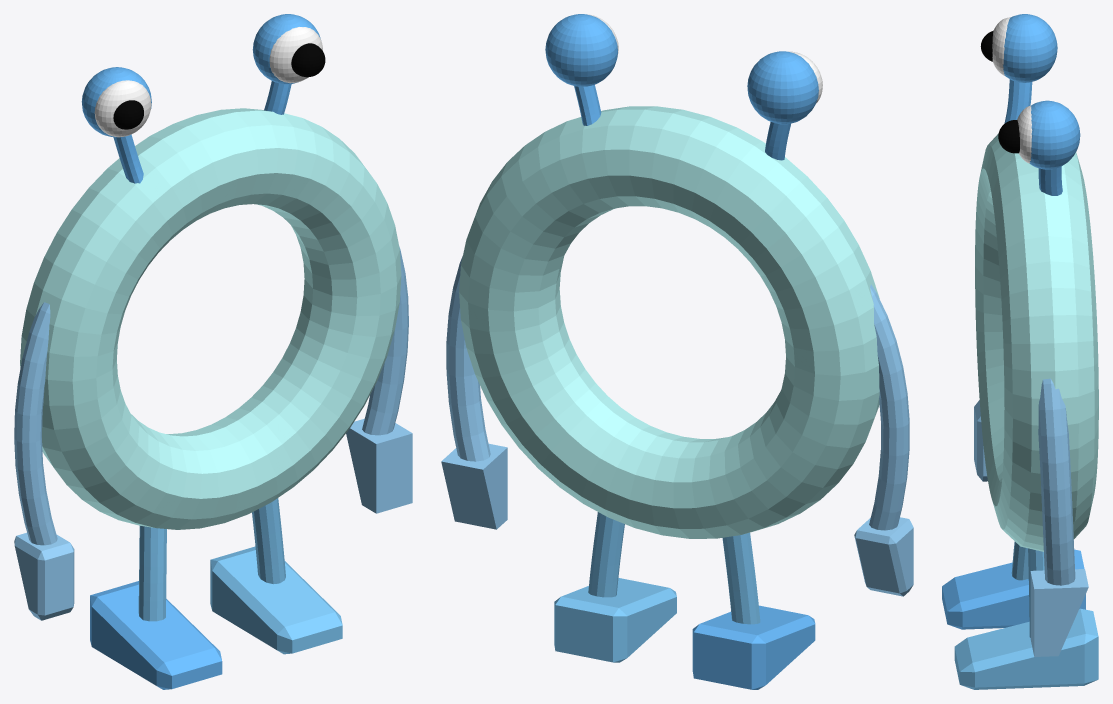
3 views of the same model, side by side, from view 1: azimuth 30°, elevation 25°; view 2: azimuth 150°, elevation 25°; view 3: azimuth 270°, elevation 25° (orthographic). The views are drawn at different scales.
Parts seen in each view (by area): view 1: Body, Shoes, Shoes.001, Hand, Brush, Brush.001, Hand.001, Leg.001, Leg, Eye Inside, Sheath Eye.001, Eye Inside.001 (+5 smaller); view 2: Body, Shoes.001, Shoes, Hand, Hand.001, Brush, Sheath Eye.001, Sheath Eye, Brush.001, Leg.001, Leg, Eye (+1 smaller); view 3: Body, Shoes, Hand.001, Shoes.001, Brush, Sheath Eye, Sheath Eye.001, Eye.001, Brush.001, Eye Inside.001, Eye Inside, Eye (+4 smaller).
Part boxes in pixels (bbox=[...]): Body: bbox=[20, 108, 401, 529]; Shoes: bbox=[210, 546, 342, 654]; Shoes.001: bbox=[90, 581, 222, 689]; Hand: bbox=[14, 302, 57, 545]; Brush: bbox=[346, 418, 412, 513]; Brush.001: bbox=[14, 532, 74, 620]; Hand.001: bbox=[362, 247, 408, 435]; Leg.001: bbox=[138, 526, 166, 621]; Leg: bbox=[252, 498, 285, 584]; Eye Inside: bbox=[94, 80, 151, 137]; Sheath Eye.001: bbox=[252, 14, 320, 84]; Eye Inside.001: bbox=[269, 27, 322, 83]; Body: bbox=[459, 106, 879, 538]; Shoes.001: bbox=[692, 605, 815, 689]; Shoes: bbox=[554, 578, 676, 662]; Hand: bbox=[869, 284, 909, 530]; Hand.001: bbox=[446, 256, 490, 461]; Brush: bbox=[441, 443, 507, 529]; Sheath Eye.001: bbox=[545, 14, 617, 86]; Sheath Eye: bbox=[747, 51, 818, 124]; Brush.001: bbox=[854, 517, 913, 596]; Leg.001: bbox=[722, 532, 760, 624]; Leg: bbox=[588, 512, 624, 597]; Eye: bbox=[574, 84, 601, 125]; Body: bbox=[975, 133, 1098, 551]; Shoes: bbox=[954, 608, 1098, 689]; Hand.001: bbox=[1038, 378, 1075, 585]; Shoes.001: bbox=[942, 549, 1085, 629]; Brush: bbox=[1030, 569, 1088, 656]; Sheath Eye: bbox=[1003, 14, 1057, 82]; Sheath Eye.001: bbox=[1029, 100, 1080, 169]; Eye.001: bbox=[1004, 79, 1032, 123]; Brush.001: bbox=[974, 400, 987, 481]; Eye Inside.001: bbox=[1017, 105, 1032, 163]; Eye Inside: bbox=[992, 17, 1009, 75]; Eye: bbox=[1038, 166, 1062, 195].
Size of the model in its own units: 277 by 379 by 92.68.
